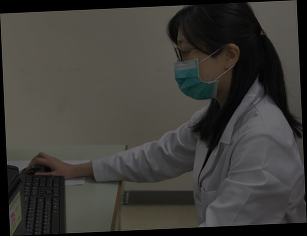with_mask: (174, 35, 224, 100)
